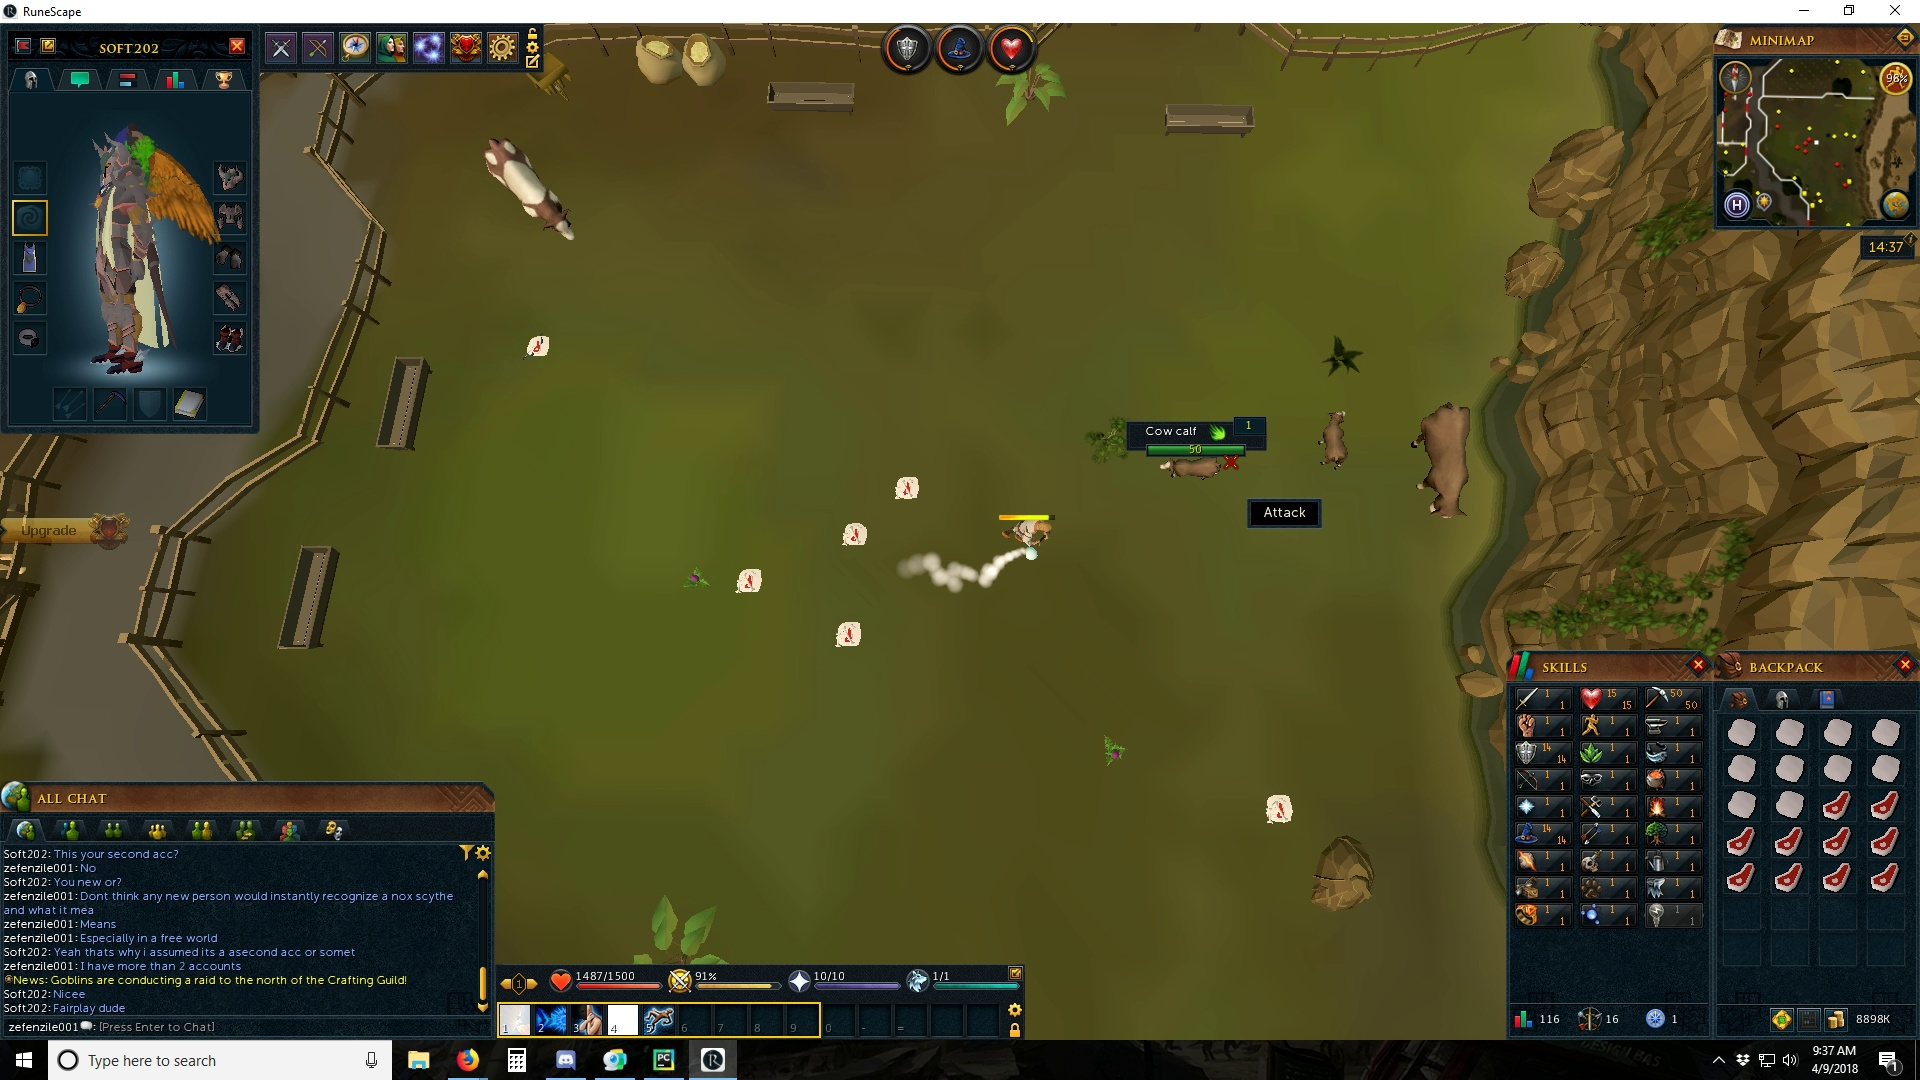calf: (1313, 410, 1348, 469), (1155, 459, 1226, 484)
cow: (483, 138, 578, 244), (1411, 401, 1473, 522)
cow_drop: (732, 563, 765, 596), (833, 618, 864, 651), (1265, 793, 1294, 827), (891, 475, 923, 501), (837, 522, 869, 547), (524, 332, 553, 357)
